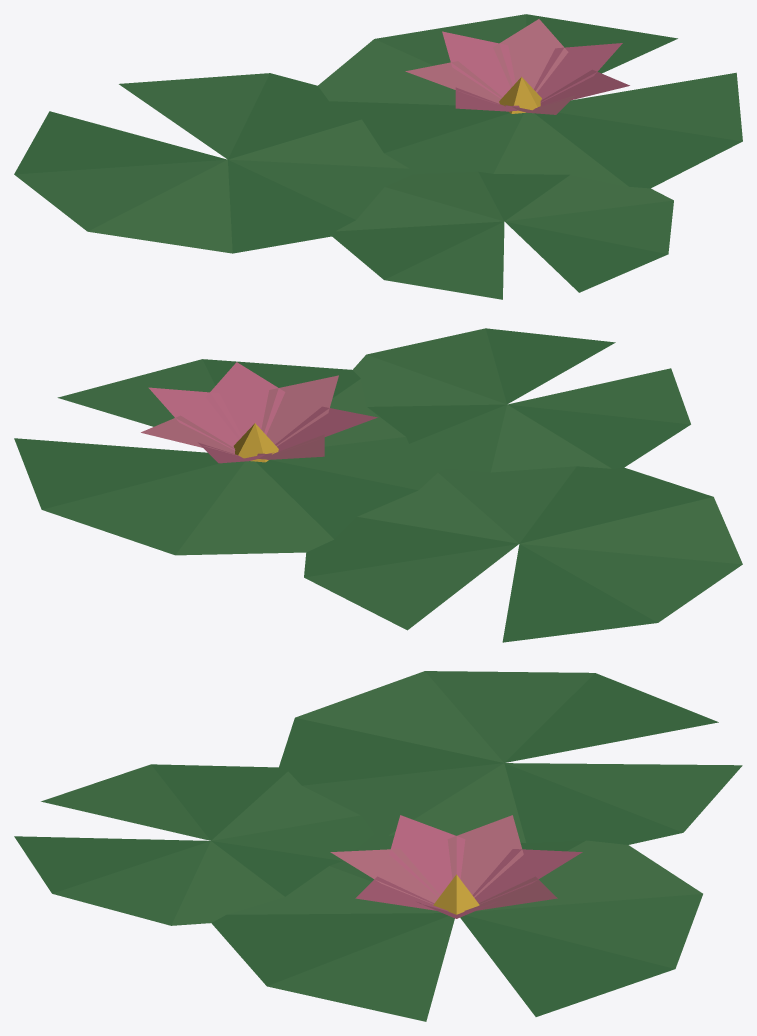
File: lilypad_pink_cluster_lod0.glb
The picture shows the model from 3 angles, top to bottom: view 1: azimuth 30°, elevation 25°; view 2: azimuth 150°, elevation 25°; view 3: azimuth 270°, elevation 25°; orthographic projection. The views are drawn at different scales.
Visible parts, largest first — view 1: lilypad_pink_cluster_lod0; view 2: lilypad_pink_cluster_lod0; view 3: lilypad_pink_cluster_lod0.
Boxes of the visible parts, box(x1,y1,x2,y2) form: lilypad_pink_cluster_lod0: box(14, 14, 742, 299); lilypad_pink_cluster_lod0: box(14, 328, 742, 642); lilypad_pink_cluster_lod0: box(14, 671, 742, 1021).
Bounding box in the file's own units: 1.22 × 0.08 × 1.07.
